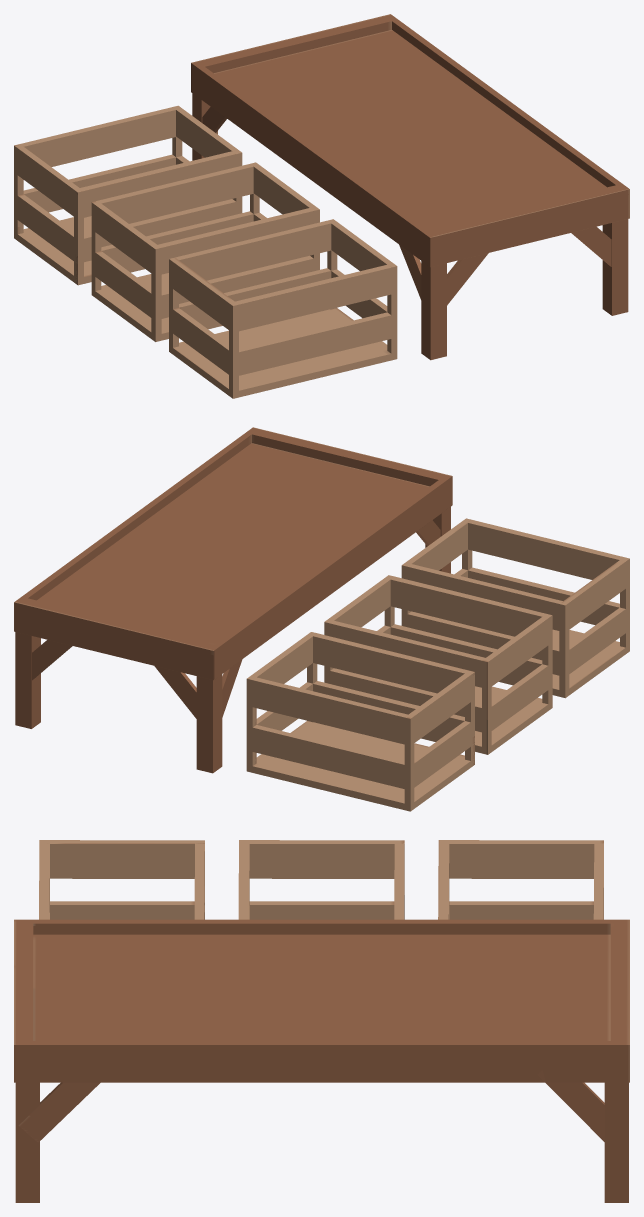
Rendered from STALL #4.fbx.
3 renders of one model, top to bottom at view 1: azimuth 30°, elevation 25°; view 2: azimuth 150°, elevation 25°; view 3: azimuth 270°, elevation 25°, orthographic. The views are drawn at different scales.
Parts seen in each view (by area): view 1: ST4; view 2: ST4; view 3: ST4.
Boxes of the visible parts, box(x1,y1,x2,y2) form: ST4: box(14, 14, 629, 398); ST4: box(14, 427, 629, 811); ST4: box(14, 840, 629, 1202).
Size of the model in its own units: 1126 by 342 by 1205.
Materials: 1 (1 with a texture image).
